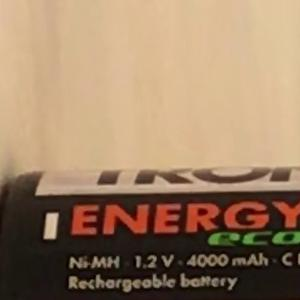NIMH: (61, 248, 127, 277)
